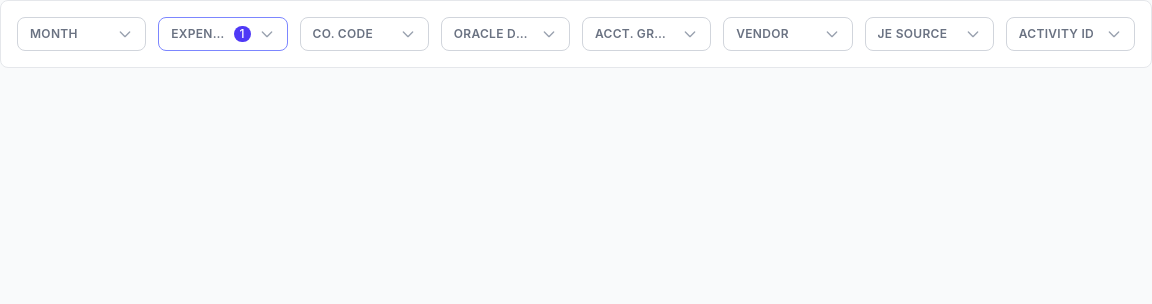
Test: FilterBar › shows Clear selection link in footer when items selected
Click the button "Expense Type 1". click: (223, 34)
box: x1=158 y1=17 x2=288 y2=51
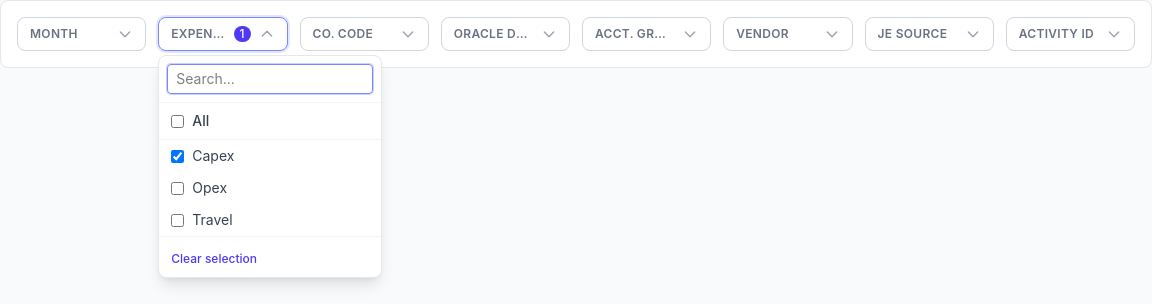
Result: the button "Clear selection" is shown at x1=171 y1=251 x2=257 y2=267
